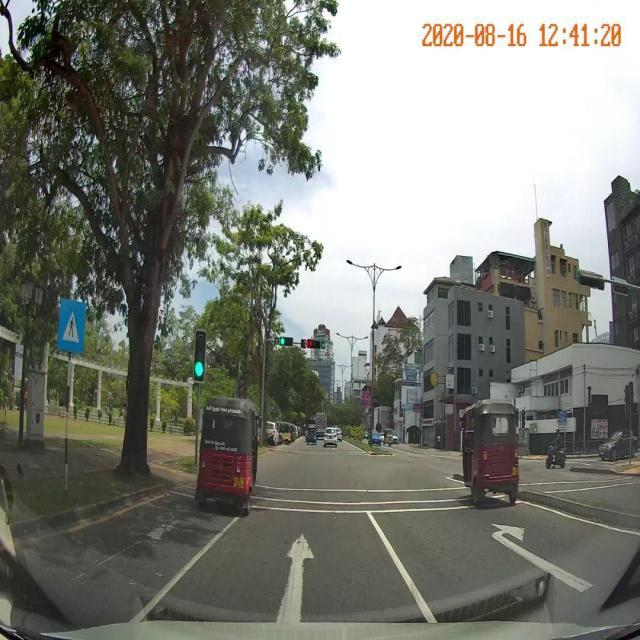Strelka vpered: (275, 531, 315, 622)
Strelka vpravo: (489, 524, 596, 593)
